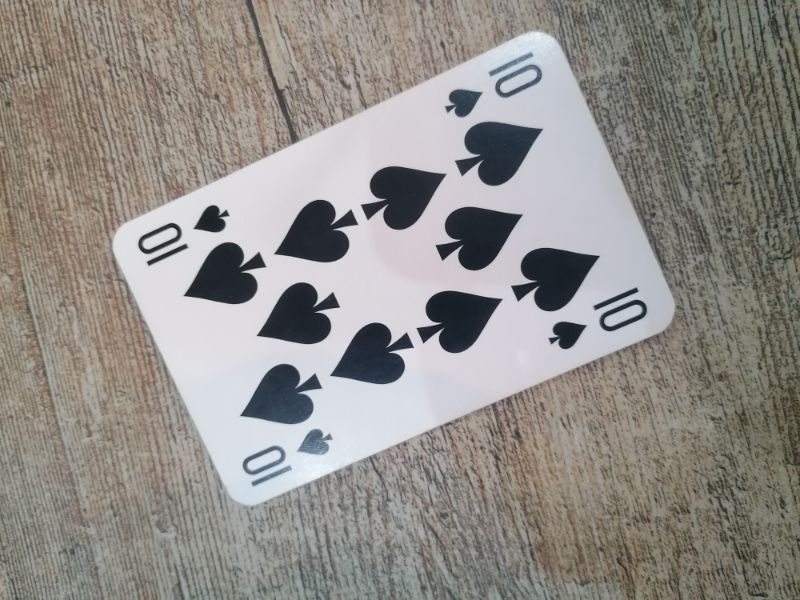Ts: (438, 47, 546, 124), (546, 282, 649, 353), (137, 200, 233, 270), (242, 424, 336, 489)
